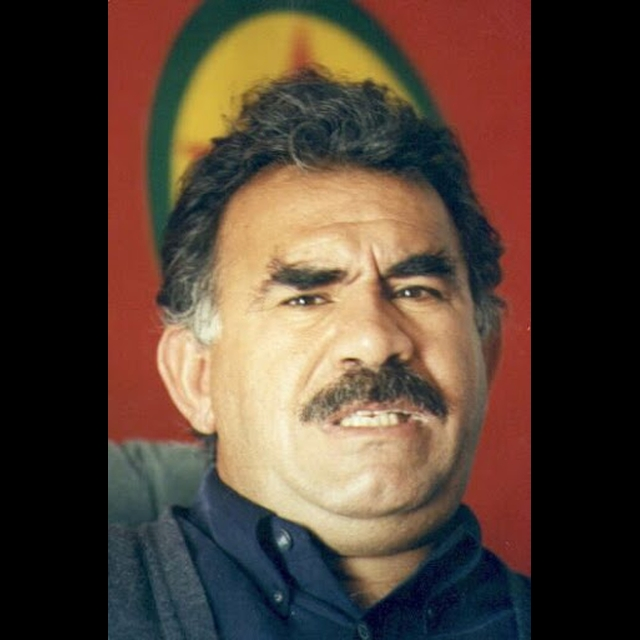APO: (177, 116, 495, 573)
